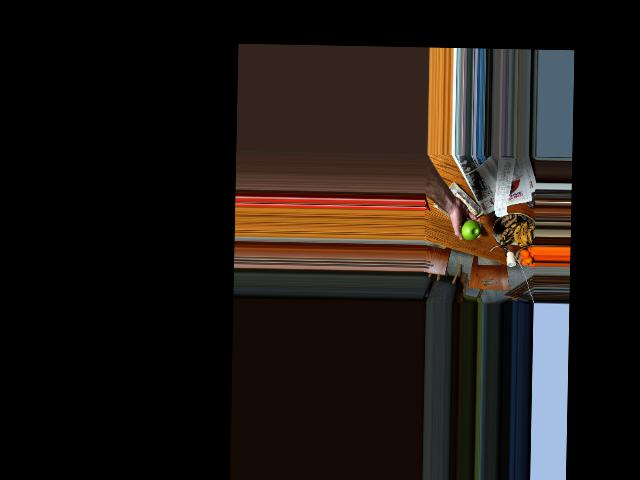apple: (461, 218, 479, 241)
